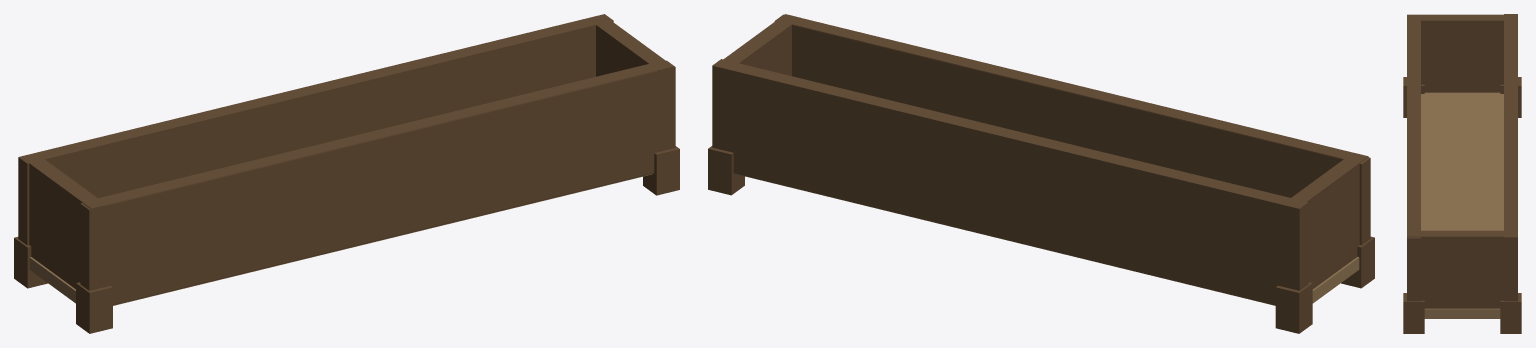
Rendered from cocho.glb.
3 views of the same model, side by side, from view 1: azimuth 30°, elevation 25°; view 2: azimuth 150°, elevation 25°; view 3: azimuth 270°, elevation 25° (orthographic). The views are drawn at different scales.
Parts seen in each view (by area): view 1: cocho; view 2: cocho; view 3: cocho.
Part boxes in pixels (box(x1,y1,x2,y2)): cocho: box(14, 14, 679, 333); cocho: box(708, 14, 1374, 333); cocho: box(1403, 14, 1521, 333).
Bounding box in the file's own units: 3.02 × 0.6 × 0.67.
